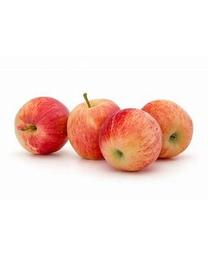apple: (100, 108, 161, 172), (16, 97, 73, 155), (67, 100, 121, 160), (142, 99, 193, 160)
